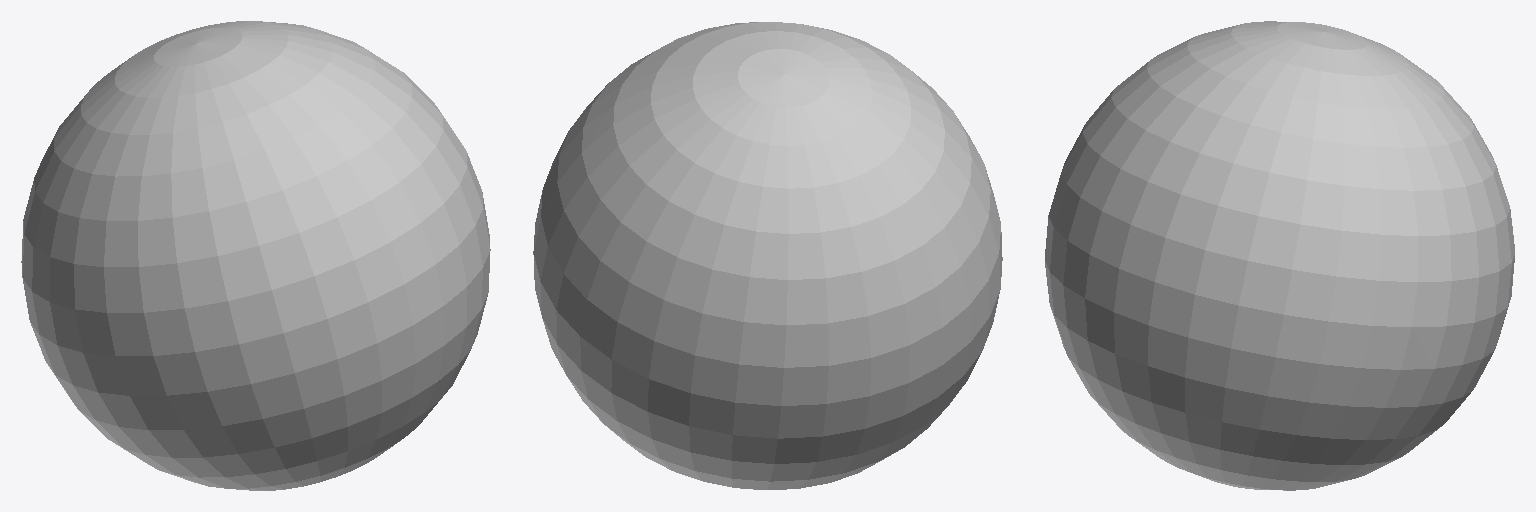
The model's file is uranus_moon_2.obj.
3 views of the same model, side by side, from view 1: azimuth 30°, elevation 25°; view 2: azimuth 150°, elevation 25°; view 3: azimuth 270°, elevation 25° (orthographic).
Visible parts, largest first — view 1: Miranda_Mesh.003; view 2: Miranda_Mesh.003; view 3: Miranda_Mesh.003.
Boxes of the visible parts, x1=… form: Miranda_Mesh.003: x1=21, y1=21, x2=490, y2=490; Miranda_Mesh.003: x1=533, y1=22, x2=1002, y2=489; Miranda_Mesh.003: x1=1045, y1=21, x2=1514, y2=490.
Bounding box in the file's own units: 3.82 × 3.81 × 3.82.